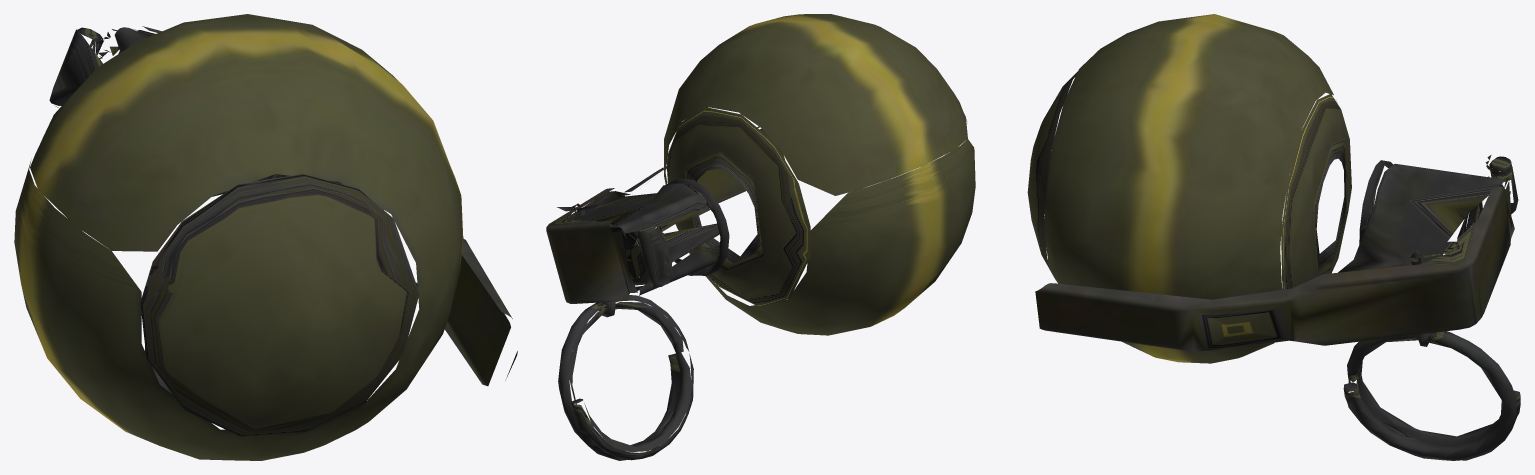
The model's file is w_hegrenade.glb.
3 renders of one model, left to right at view 1: azimuth 30°, elevation 25°; view 2: azimuth 150°, elevation 25°; view 3: azimuth 270°, elevation 25°, orthographic. The views are drawn at different scales.
Visible parts, largest first — view 1: w_hegrenade; view 2: w_hegrenade; view 3: w_hegrenade.
Boxes of the visible parts, x1,y1,x2,y2 form: w_hegrenade: (14, 14, 517, 460); w_hegrenade: (546, 14, 975, 460); w_hegrenade: (1027, 14, 1520, 460).
Bounding box in the file's own units: 0.1116 × 0.1295 × 0.1535.
Materials: 1 (1 with a texture image).
